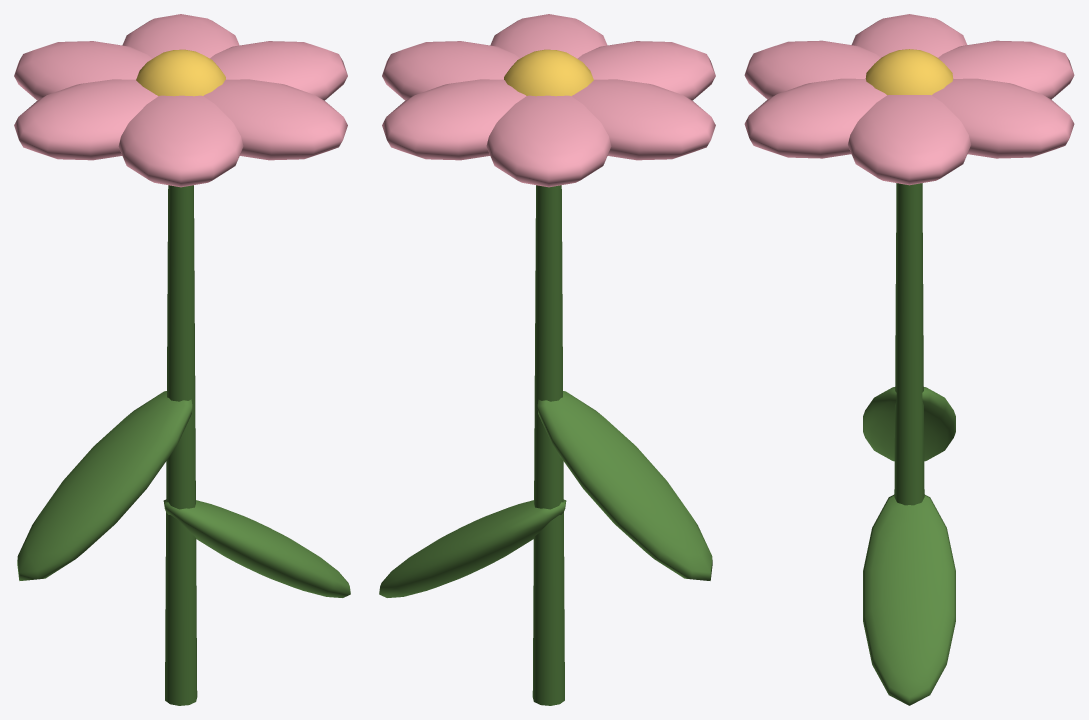
The model's file is flower.glb.
3 renders of one model, left to right at view 1: azimuth 30°, elevation 25°; view 2: azimuth 150°, elevation 25°; view 3: azimuth 270°, elevation 25°, orthographic.
Visible parts, largest first — view 1: prop-flower; view 2: prop-flower; view 3: prop-flower.
Boxes of the visible parts, x1,y1,x2,y2 form: prop-flower: (14,14,350,705); prop-flower: (379,14,715,705); prop-flower: (744,14,1074,705).
Size of the model in its own units: 0.1041 by 0.194 by 0.0911.
